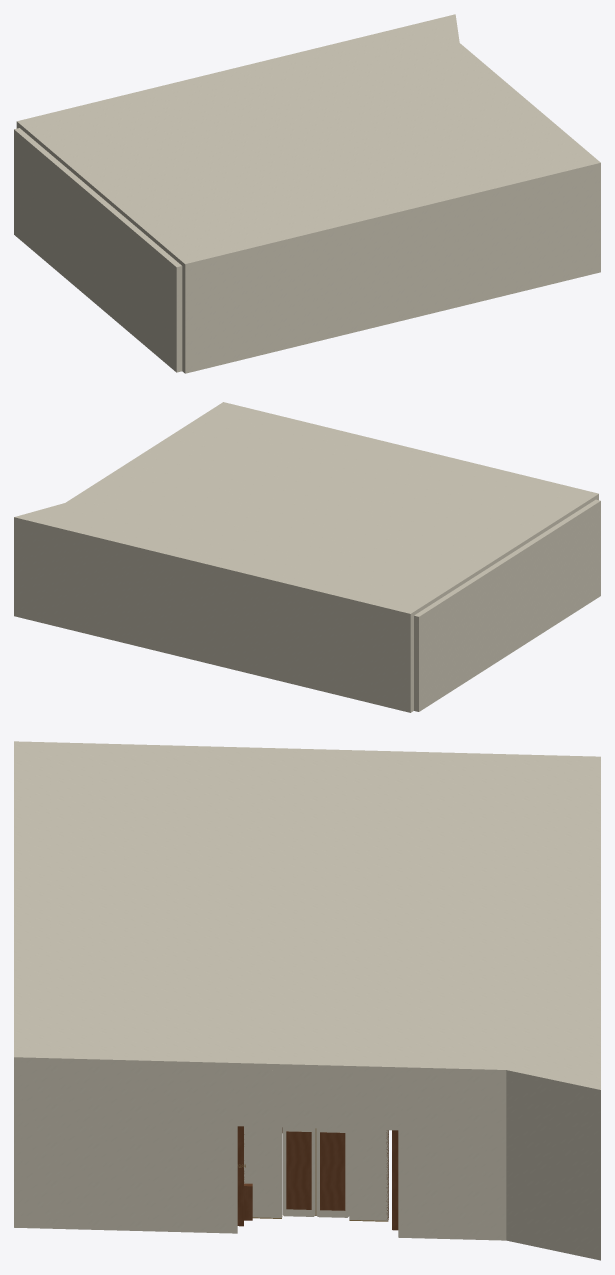
The picture shows the model from 3 angles, top to bottom: view 1: azimuth 30°, elevation 25°; view 2: azimuth 150°, elevation 25°; view 3: azimuth 270°, elevation 25°; orthographic projection. The views are drawn at different scales.
Parts seen in each view (by area): view 1: PremiumPressureClosure, AftPartyWall, HeldFrontageOpaqueEnclosure, InnerAftPartyReturn; view 2: PremiumPressureClosure, ForePartyWall, HeldFrontageOpaqueEnclosure, InnerForePartyReturn; view 3: PremiumPressureClosure, InnerAftPartyReturn, InnerForePartyReturn, ArrivalHeader, PrivateEntry_01_ENTRY_PocketSkin_-1_1, PrivateEntry_01_ENTRY_PocketSkin_1_1, PrivateEntry_01_ENTRY_TimberInset_LEFT_1, PrivateEntry_01_ENTRY_TimberInset_RIGHT_1, AftPartyWall, PrivateEntry_01_ENTRY_MovingPanel_RIGHT, PrivateEntry_01_ENTRY_MovingPanel_LEFT, ArrivalForePocket (+1 smaller).
Part boxes in pixels (left/top/right/bottom): PremiumPressureClosure: left=16, top=14, right=600, bottom=268; AftPartyWall: left=182, top=168, right=600, bottom=373; HeldFrontageOpaqueEnclosure: left=14, top=128, right=182, bottom=372; InnerAftPartyReturn: left=595, top=167, right=600, bottom=273; PremiumPressureClosure: left=14, top=402, right=598, bottom=617; ForePartyWall: left=14, top=521, right=413, bottom=712; HeldFrontageOpaqueEnclosure: left=414, top=499, right=600, bottom=711; InnerForePartyReturn: left=14, top=521, right=18, bottom=617; PremiumPressureClosure: left=14, top=741, right=600, bottom=1096; InnerAftPartyReturn: left=14, top=1063, right=237, bottom=1233; InnerForePartyReturn: left=398, top=1073, right=600, bottom=1260; ArrivalHeader: left=237, top=1069, right=398, bottom=1130; PrivateEntry_01_ENTRY_PocketSkin_-1_1: left=349, top=1129, right=388, bottom=1220; PrivateEntry_01_ENTRY_PocketSkin_1_1: left=244, top=1126, right=281, bottom=1217; PrivateEntry_01_ENTRY_TimberInset_LEFT_1: left=320, top=1132, right=345, bottom=1210; PrivateEntry_01_ENTRY_TimberInset_RIGHT_1: left=286, top=1131, right=311, bottom=1209; AftPartyWall: left=14, top=1063, right=23, bottom=1227; PrivateEntry_01_ENTRY_MovingPanel_RIGHT: left=282, top=1127, right=315, bottom=1216; PrivateEntry_01_ENTRY_MovingPanel_LEFT: left=316, top=1128, right=349, bottom=1217; ArrivalForePocket: left=392, top=1130, right=398, bottom=1230.
Size of the model in its own units: 19.73 by 4.45 by 13.88.
Materials: 158 (152 with a texture image).
